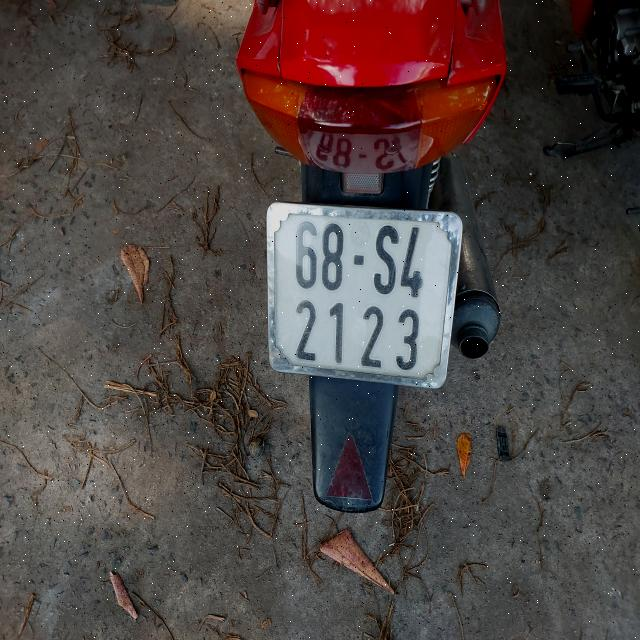1: (329, 300, 345, 366)
2: (361, 303, 383, 370), (296, 298, 318, 363)
3: (394, 308, 420, 372)
4: (401, 225, 424, 298)
6: (295, 219, 318, 290)
8: (321, 220, 343, 292)
S: (372, 222, 400, 299)
